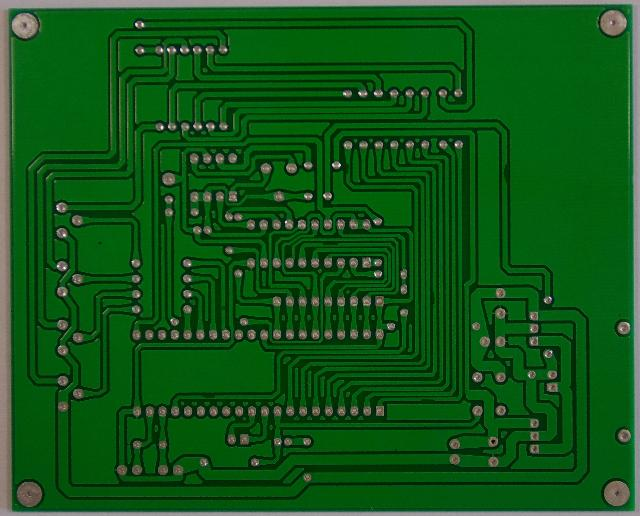mouse_bite: (500, 159, 510, 185), (200, 393, 218, 401), (321, 242, 341, 248), (343, 162, 351, 177), (431, 289, 437, 307), (418, 397, 436, 403)
